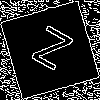Z: (25, 25, 74, 80)
